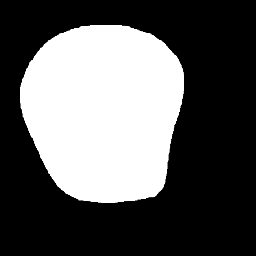mass: (17, 19, 175, 206)
